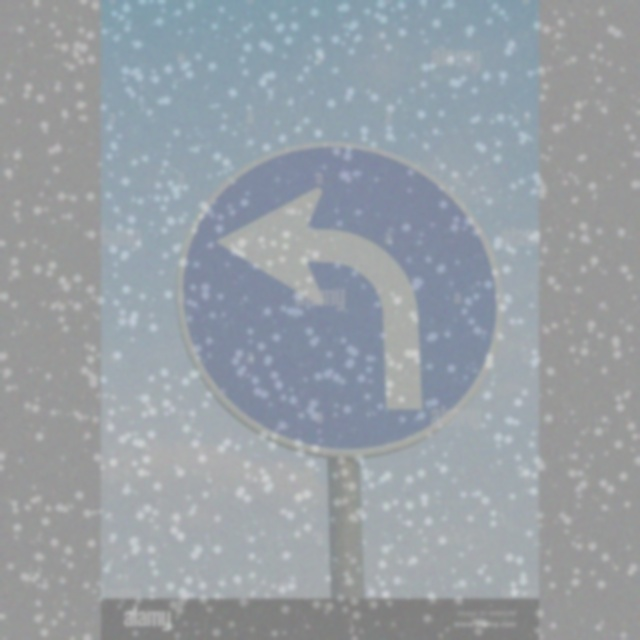Compulsory_Turn_Left_Ahead: (181, 146, 489, 460)
